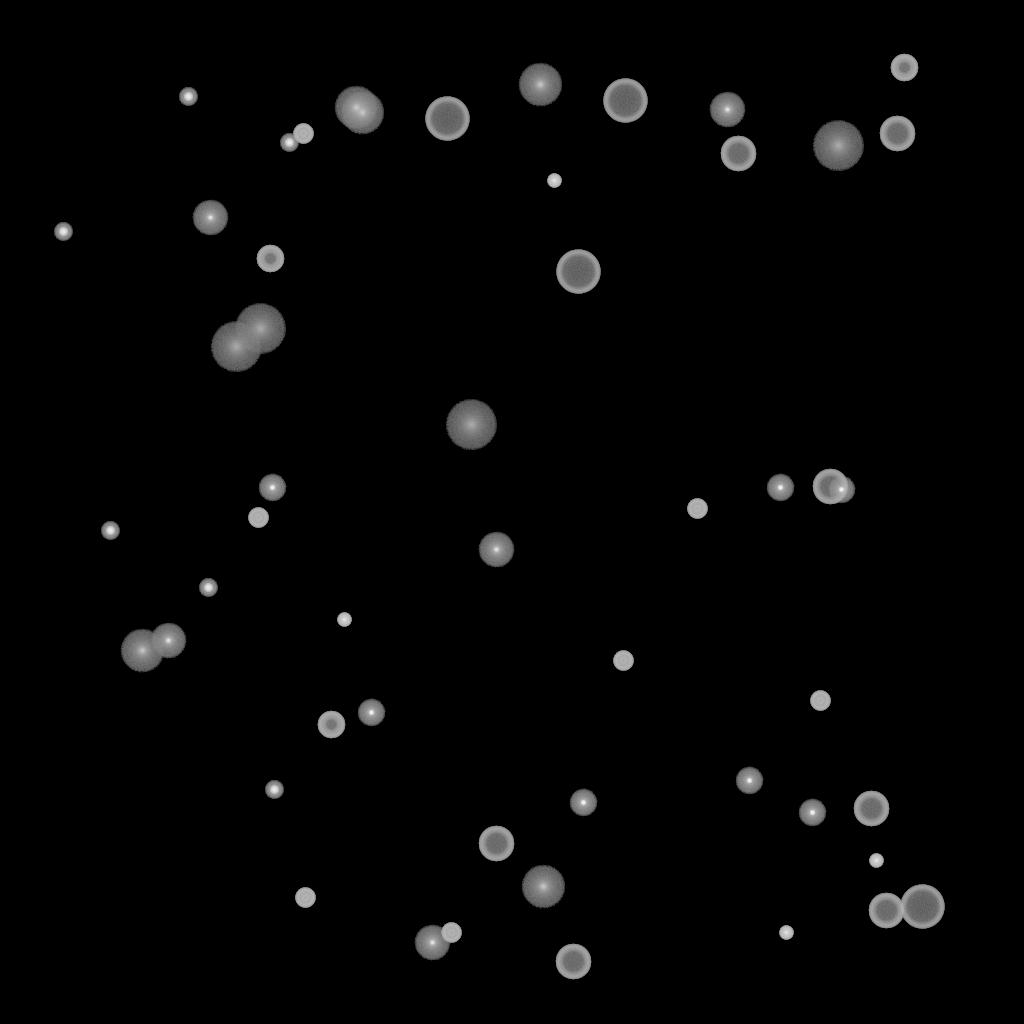depth:-10: (357, 699, 385, 727), (798, 799, 826, 827), (735, 767, 763, 795), (569, 789, 597, 817), (766, 474, 794, 502), (827, 476, 855, 504), (258, 474, 286, 502)
depth:-20: (199, 579, 217, 597), (265, 781, 283, 799), (280, 134, 298, 152), (54, 223, 72, 241), (179, 88, 197, 106), (101, 522, 119, 540)
depth:-30: (869, 854, 883, 868), (337, 613, 351, 627), (547, 174, 561, 188), (779, 926, 793, 940)
depth:-40: (441, 923, 461, 943), (293, 124, 313, 144), (248, 508, 268, 528), (687, 499, 707, 519), (613, 651, 633, 671), (810, 691, 830, 711), (295, 888, 315, 908)
depth:-50: (890, 54, 918, 82), (256, 245, 284, 273), (317, 711, 345, 739)
depth:-60: (555, 944, 591, 980), (812, 469, 848, 505), (720, 136, 756, 172), (879, 116, 915, 152), (868, 893, 904, 929), (478, 826, 514, 862), (853, 791, 889, 827)
depth:-70: (900, 885, 944, 929), (425, 97, 469, 141), (556, 250, 600, 294), (603, 79, 647, 123)
depth:0: (709, 92, 745, 128), (150, 623, 186, 659), (192, 200, 228, 236), (414, 925, 450, 961), (478, 532, 514, 568)
depth:10: (340, 91, 384, 135), (120, 629, 164, 673), (521, 865, 565, 909), (518, 63, 562, 107), (334, 86, 378, 130)
depth:20: (812, 121, 864, 171), (445, 400, 497, 450), (210, 322, 262, 372), (234, 304, 286, 354)
